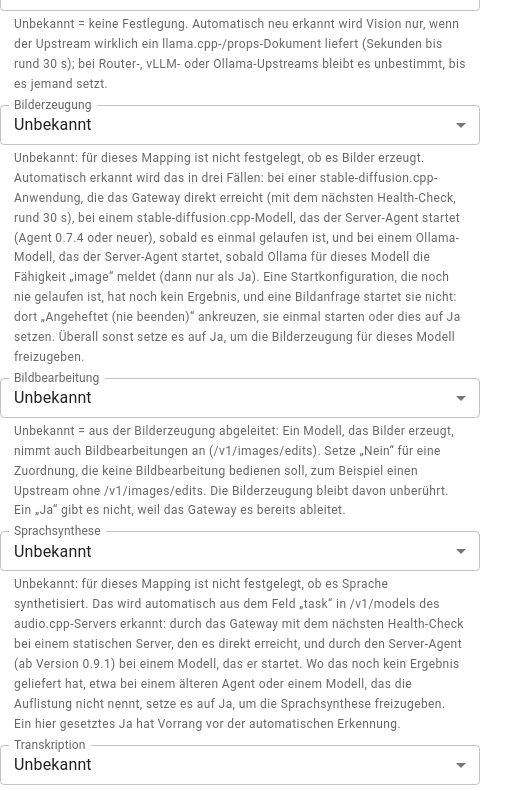
Scenario: offers unknown and no for image_edit, and never yes -- the gate derives it
The width and height of the screenshot is (519, 791).
(page scrolled)
Step 1. Press the mouse on the dropdown named "Bildbearbeitung" → point(53, 398), box [14,388,92,407]
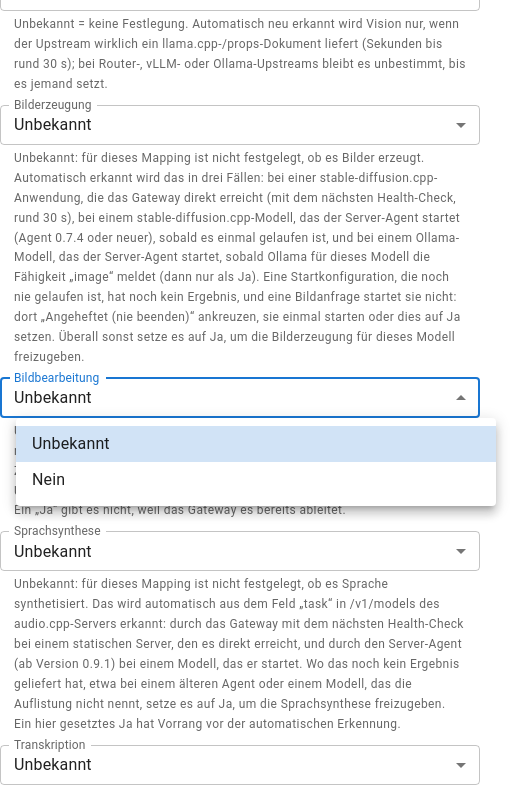
Check: the option "Unbekannt" is shown, box [16,426,496,462]
Check: the option "Nein" is shown, box [32,470,65,489]
